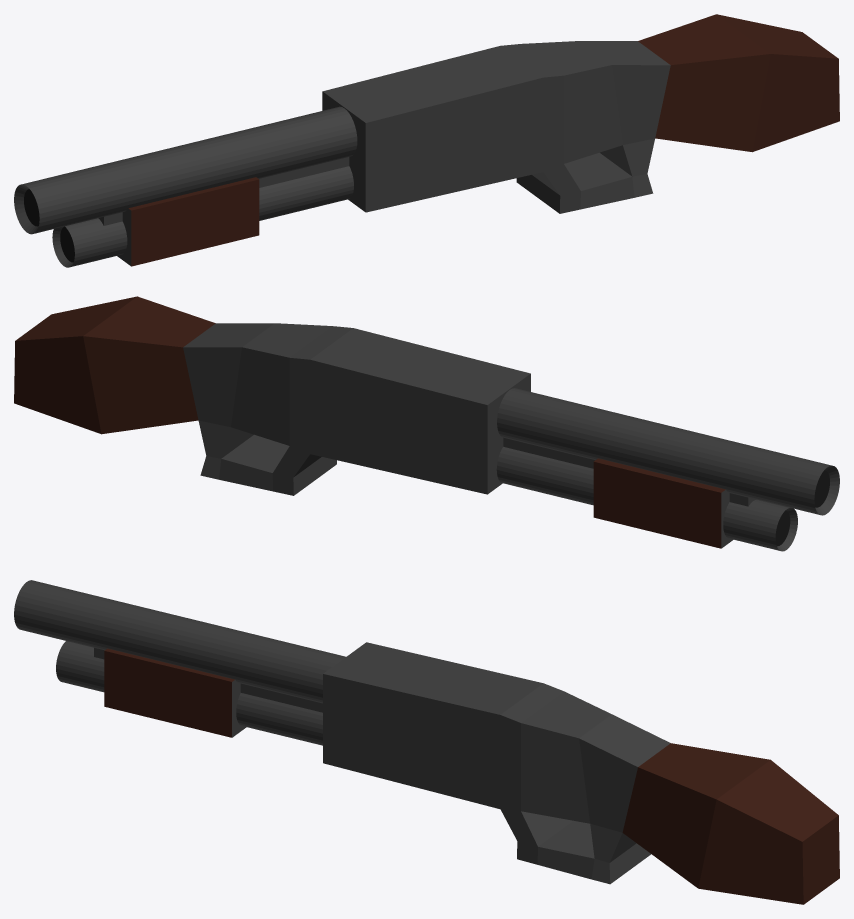
Rendered from shotgun.fbx.
The picture shows the model from 3 angles, top to bottom: view 1: azimuth 30°, elevation 25°; view 2: azimuth 150°, elevation 25°; view 3: azimuth 330°, elevation 25°; orthographic projection.
Parts seen in each view (by area): view 1: Cube.003; view 2: Cube.003; view 3: Cube.003.
Part boxes in pixels (x1,y1,x2,y2): Cube.003: (14, 14, 839, 267); Cube.003: (14, 296, 839, 551); Cube.003: (14, 580, 839, 904).
Size of the model in its own units: 822 by 141 by 97.2.
